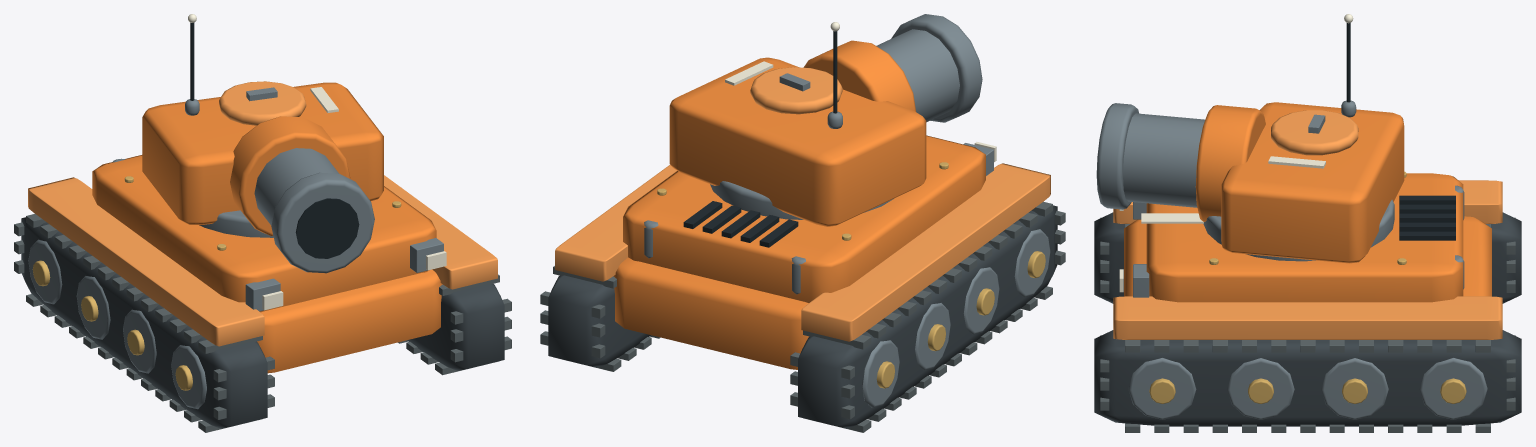
The model's file is tank_07_tangerine_siege.glb.
3 views of the same model, side by side, from view 1: azimuth 30°, elevation 25°; view 2: azimuth 150°, elevation 25°; view 3: azimuth 270°, elevation 25° (orthographic). The views are drawn at different scales.
Visible parts, largest first — view 1: Upper deck.006, Siege mantlet, Track guard.012, Track belt.012, Lower hull.006, Barrel collar.007, Muzzle rim.007, Track belt.013, Track guard.013, Bore shadow.007, Cannon tube.007, Commander hatch.006 (+7 smaller); view 2: Siege mantlet, Upper deck.006, Track guard.012, Lower hull.006, Track belt.012, Track belt.013, Cannon tube.007, Track guard.013, Barrel collar.007, Commander hatch.006, Muzzle rim.007, Road wheel.051 (+4 smaller); view 3: Track belt.013, Upper deck.006, Siege mantlet, Track guard.013, Cannon tube.007, Barrel collar.007, Track belt.012, Lower hull.006, Commander hatch.006, Muzzle rim.007, Road wheel.052, Road wheel.055 (+16 smaller).
Boxes of the visible parts, x1,y1,x2,y2 form: Upper deck.006: (92,155,436,312); Siege mantlet: (142,82,383,224); Track guard.012: (28,177,264,346); Track belt.012: (21,217,267,428); Lower hull.006: (257,269,442,373); Barrel collar.007: (230,116,350,235); Muzzle rim.007: (271,172,374,273); Track belt.013: (407,283,504,370); Track guard.013: (384,175,497,289); Bore shadow.007: (295,198,359,258); Cannon tube.007: (254,148,338,225); Commander hatch.006: (219,81,306,125); Siege mantlet: (669,57,926,226); Upper deck.006: (623,135,985,302); Track guard.012: (801,163,1050,341); Lower hull.006: (613,257,809,369); Track belt.012: (798,205,1057,428); Track belt.013: (548,275,650,367); Cannon tube.007: (876,29,959,122); Track guard.013: (555,165,676,281); Barrel collar.007: (803,40,915,111); Commander hatch.006: (750,67,842,114); Muzzle rim.007: (891,14,982,122); Road wheel.051: (862,340,899,407); Track belt.013: (1094,330,1521,426); Upper deck.006: (1146,173,1463,302); Siege mantlet: (1221,102,1404,263); Track guard.013: (1113,296,1502,339); Cannon tube.007: (1123,113,1204,207); Barrel collar.007: (1195,105,1265,221); Track belt.012: (1094,212,1521,303); Lower hull.006: (1124,216,1491,296); Commander hatch.006: (1271,110,1358,155); Muzzle rim.007: (1096,103,1139,209); Road wheel.052: (1128,358,1196,419); Road wheel.055: (1419,358,1487,419).
Bounding box in the file's own units: 1.78 × 1.75 × 2.12.
